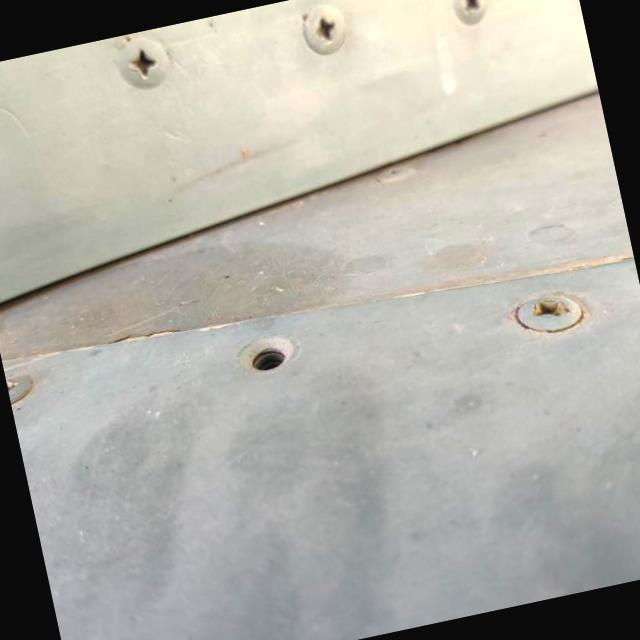Missing Fastener: (230, 326, 307, 386)
